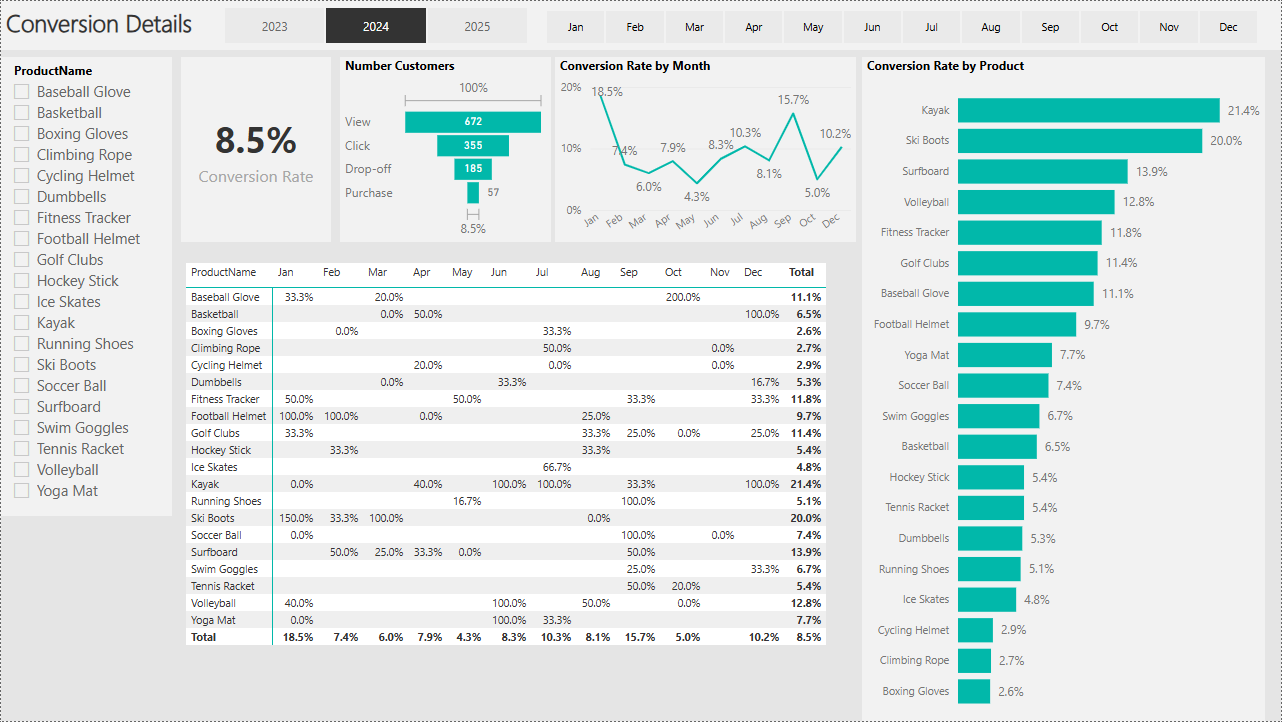

The page's visual inventory and layout, read from the dashboard file:
{"tool":"powerbi","page":{"name":"Conversion Details","canvas":[1280,720],"ordinal":1},"visuals":[{"type":"textbox","box":[0,0,1279.7,49.3],"z":0},{"type":"slicer","fields":{"Values":["dim_products.ProductName"]},"box":[0,56.4,171,458.5],"z":1000},{"type":"card","fields":{"Values":["_Mesure.Conversion Rate"]},"box":[180,56.4,149.6,184.5],"z":2000},{"type":"slicer","fields":{"Values":["Calendar.MonthNameShort"]},"box":[520.3,2.7,759.4,46.6],"z":3000},{"type":"slicer","fields":{"Values":["Calendar.Year"]},"box":[197.9,0,351.9,49.3],"z":4000},{"type":"lineChart","title":"Conversion Rate by Month","fields":{"Category":["Calendar.MonthNameShort"],"Y":["_Mesure.Conversion Rate"]},"box":[554.3,56.4,300.9,184.5],"z":5000},{"type":"clusteredBarChart","title":"Conversion Rate by Product","fields":{"Category":["dim_products.ProductName"],"Y":["_Mesure.Conversion Rate"]},"box":[861.5,56.4,403,663.6],"z":6000},{"type":"funnel","title":"Number Customers","fields":{"Category":["fact_customer_journey.Action"],"Y":["_Mesure.Number of Customer Journeys"]},"box":[339.4,56.4,210.4,184.5],"z":7000},{"type":"pivotTable","fields":{"Rows":["dim_products.ProductName"],"Columns":["Calendar.MonthNameShort"],"Values":["_Mesure.Conversion Rate"]},"box":[180,257,654.6,396.7],"z":8000}]}

Visuals, with their boxes in screenshot pixels (x1, y1, x2, y2), scaled from the page's 1280x720 canvas onto the 1282x722 screenshot:
textbox: locate(0, 0, 1281, 49)
slicer - dim_products.ProductName: locate(0, 57, 171, 516)
card - _Mesure.Conversion Rate: locate(180, 57, 330, 242)
slicer - Calendar.MonthNameShort: locate(521, 3, 1281, 49)
slicer - Calendar.Year: locate(198, 0, 551, 49)
"Conversion Rate by Month" lineChart: locate(555, 57, 857, 242)
"Conversion Rate by Product" clusteredBarChart: locate(863, 57, 1266, 721)
"Number Customers" funnel: locate(340, 57, 551, 242)
pivotTable - dim_products.ProductName x Calendar.MonthNameShort: locate(180, 258, 836, 656)
